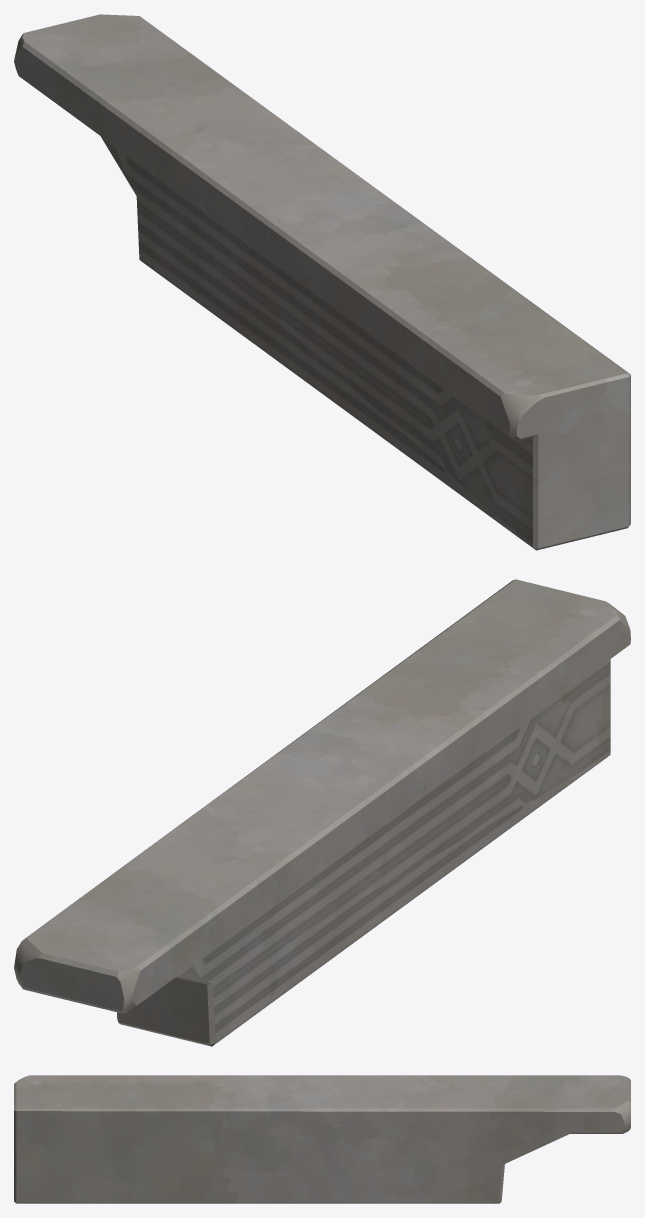
File: SM_Pillar_Horizontal_Ruins.fbx
The picture shows the model from 3 angles, top to bottom: view 1: azimuth 30°, elevation 25°; view 2: azimuth 150°, elevation 25°; view 3: azimuth 270°, elevation 25°; orthographic projection. The views are drawn at different scales.
Visible parts, largest first — view 1: SM_Pillar_Horizontal_Ruins_LOD0; view 2: SM_Pillar_Horizontal_Ruins_LOD0; view 3: SM_Pillar_Horizontal_Ruins_LOD0.
Part boxes in pixels (bbox=[...]): SM_Pillar_Horizontal_Ruins_LOD0: bbox=[14, 14, 630, 550]; SM_Pillar_Horizontal_Ruins_LOD0: bbox=[14, 579, 630, 1046]; SM_Pillar_Horizontal_Ruins_LOD0: bbox=[14, 1075, 630, 1203].
Bounding box in the file's own units: 81.94 × 600 × 102.
Materials: 1 (1 with a texture image).
